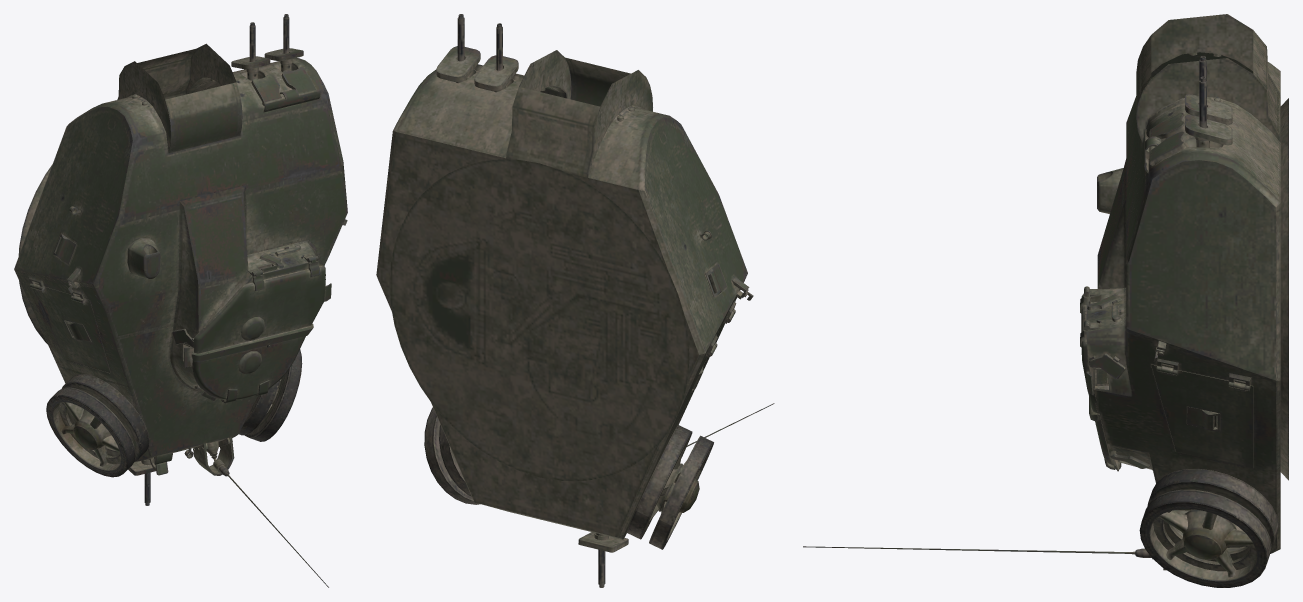
File: Turret_02.glb
The picture shows the model from 3 angles, left to right: view 1: azimuth 30°, elevation 25°; view 2: azimuth 150°, elevation 25°; view 3: azimuth 270°, elevation 25°; orthographic projection. The views are drawn at different scales.
Visible parts, largest first — view 1: set_0_group_0; view 2: set_0_group_0; view 3: set_0_group_0.
Part boxes in pixels (<box>): set_0_group_0: <box>14,14,347,587</box>; set_0_group_0: <box>376,14,774,587</box>; set_0_group_0: <box>803,14,1288,587</box>.
Size of the model in its own units: 1.92 by 2.95 by 2.22.
Materials: 1 (1 with a texture image).
